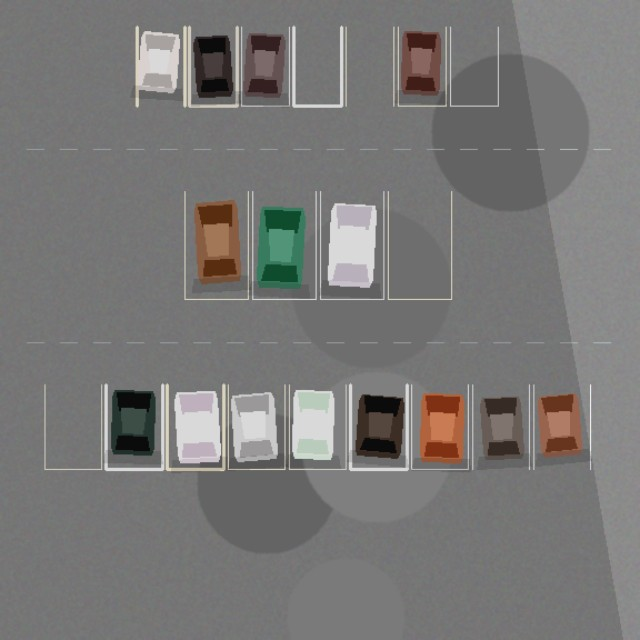space-empty: (388, 191, 451, 299), (44, 384, 101, 469), (293, 27, 341, 106), (450, 27, 498, 106), (346, 27, 393, 106)
space-occupied: (184, 191, 248, 299), (252, 191, 316, 299), (320, 191, 383, 299), (289, 384, 346, 469), (350, 384, 407, 469), (411, 384, 468, 469), (472, 384, 529, 469), (533, 384, 590, 469), (106, 384, 162, 469), (167, 384, 223, 469), (228, 384, 284, 469), (189, 27, 237, 106), (241, 27, 289, 106), (398, 27, 446, 106), (137, 27, 184, 106)
